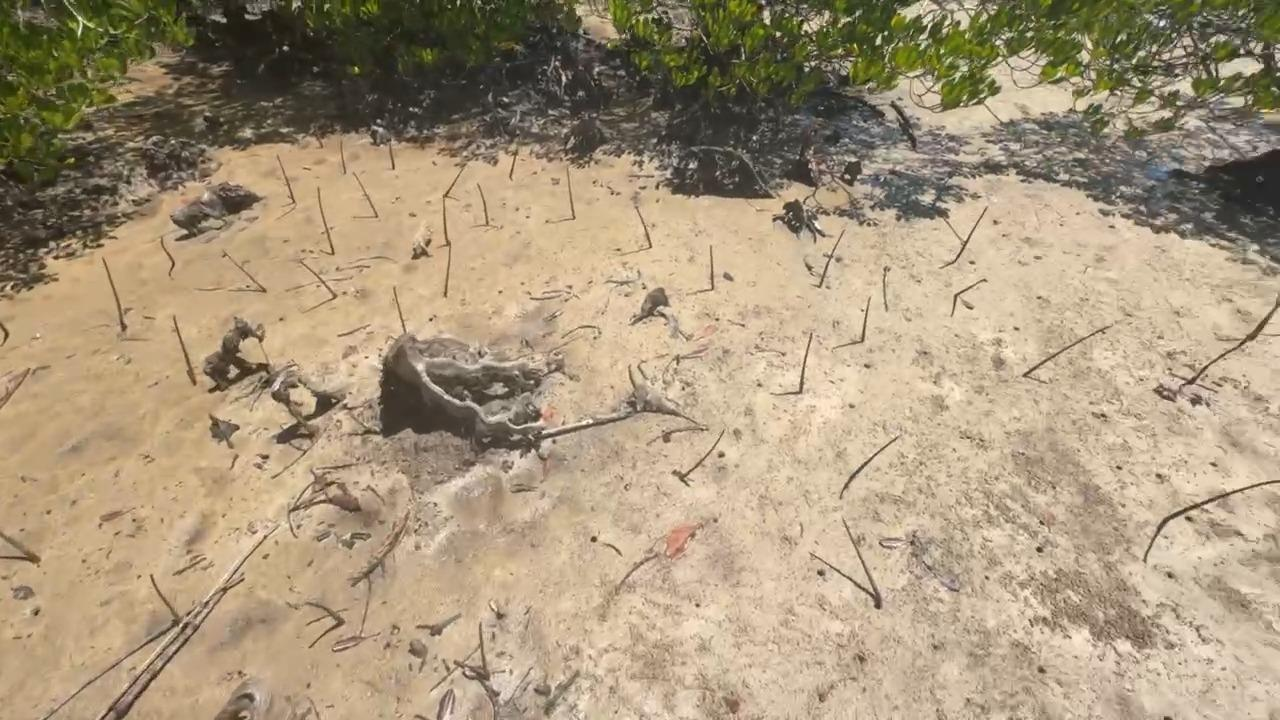Tree: (1162, 479, 1280, 521), (1021, 323, 1112, 375), (840, 518, 883, 603), (680, 428, 726, 477), (952, 206, 988, 262), (223, 249, 268, 292), (102, 256, 126, 332), (172, 313, 196, 384), (818, 229, 846, 287), (298, 260, 337, 298), (151, 573, 181, 621), (0, 530, 41, 564), (351, 169, 378, 216), (318, 187, 335, 253), (307, 600, 347, 625), (276, 154, 295, 204), (798, 332, 813, 392), (444, 160, 468, 196), (635, 204, 654, 247), (392, 287, 407, 335), (955, 277, 990, 296), (480, 622, 491, 677), (161, 235, 175, 278), (567, 166, 576, 222), (477, 184, 489, 225), (442, 197, 452, 244), (443, 246, 452, 297), (861, 296, 870, 343), (510, 142, 518, 180), (708, 246, 715, 289), (387, 139, 396, 171), (312, 126, 325, 146), (339, 139, 346, 176), (0, 320, 8, 338)
